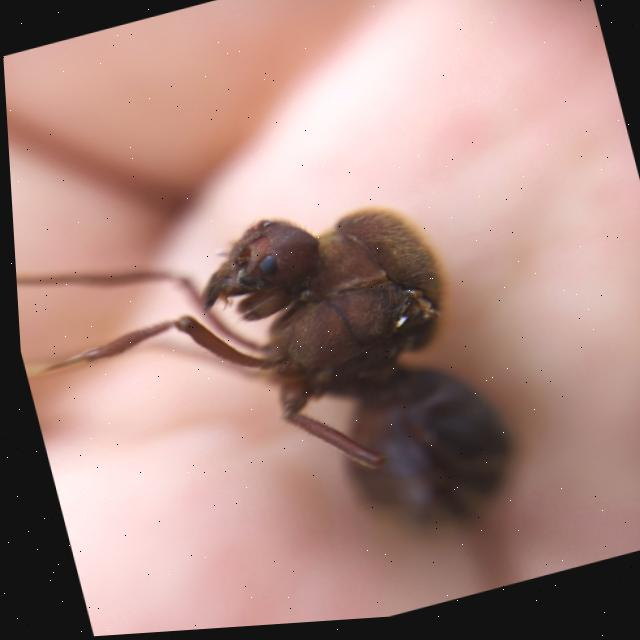Dead-Female-Dealate: (9, 158, 541, 637)
